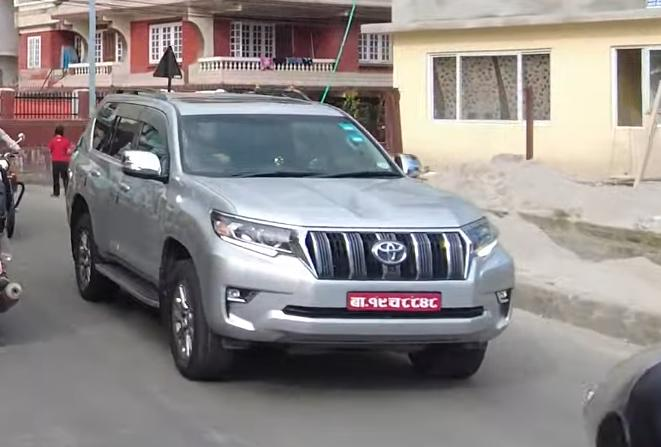SUV: (59, 86, 537, 400)
